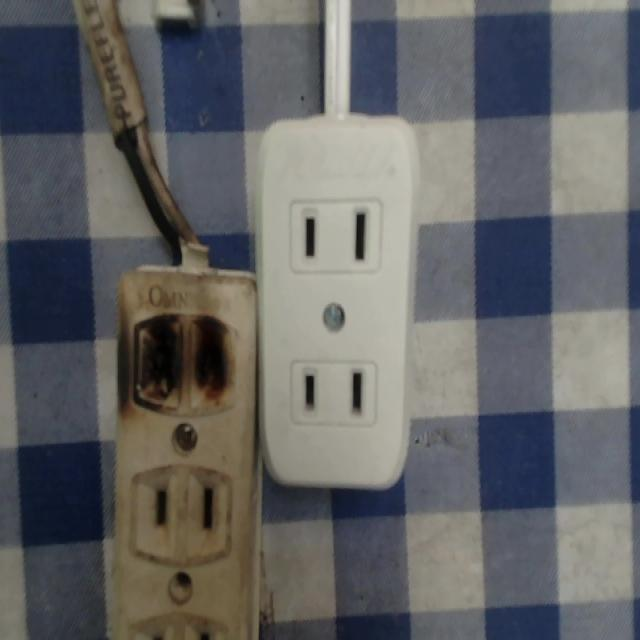-: (123, 310, 241, 414)
